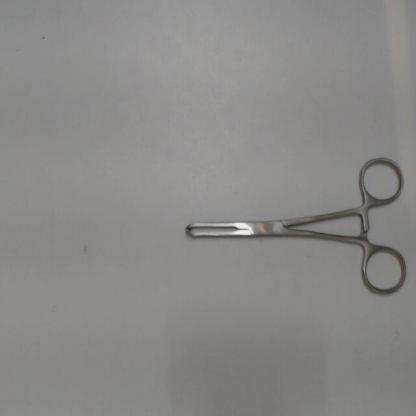Allis Tissue Forceps: (175, 150, 412, 305)
